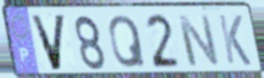2: (144, 12, 184, 71)
8: (73, 13, 107, 72)
K: (216, 13, 253, 68)
N: (175, 14, 222, 69)
Q: (107, 14, 148, 70)
V: (28, 13, 68, 73)
